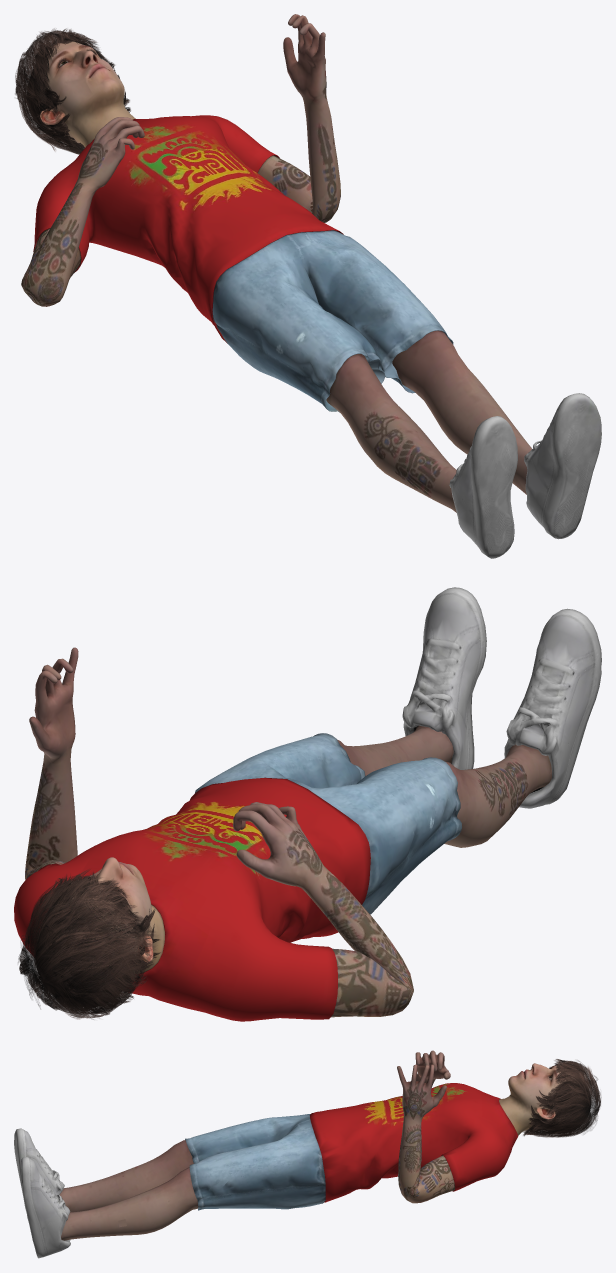
The model's file is rojo-cuerpo-v1.glb.
3 renders of one model, top to bottom at view 1: azimuth 30°, elevation 25°; view 2: azimuth 150°, elevation 25°; view 3: azimuth 270°, elevation 25°, orthographic. The views are drawn at different scales.
Parts seen in each view (by area): view 1: Ch42_Body1.001, Ch42_Shirt.001, Ch42_Shorts.001, Ch42_Sneakers.001, Ch42_Hair1.001; view 2: Ch42_Shirt.001, Ch42_Body1.001, Ch42_Sneakers.001, Ch42_Shorts.001, Ch42_Hair1.001; view 3: Ch42_Body1.001, Ch42_Shirt.001, Ch42_Shorts.001, Ch42_Sneakers.001, Ch42_Hair1.001.
Part boxes in pixels (box(x1,y1,x2,y2)): Ch42_Body1.001: box(21, 14, 531, 512); Ch42_Shirt.001: box(33, 115, 343, 343); Ch42_Shorts.001: box(212, 230, 453, 412); Ch42_Sneakers.001: box(449, 393, 601, 558); Ch42_Hair1.001: box(15, 28, 130, 154); Ch42_Shirt.001: box(14, 777, 370, 1021); Ch42_Body1.001: box(25, 647, 551, 1017); Ch42_Sneakers.001: box(402, 587, 601, 808); Ch42_Shorts.001: box(195, 733, 461, 914); Ch42_Hair1.001: box(18, 869, 160, 1019); Ch42_Body1.001: box(60, 1050, 591, 1240); Ch42_Shirt.001: box(309, 1083, 518, 1202); Ch42_Shorts.001: box(185, 1114, 325, 1210); Ch42_Sneakers.001: box(14, 1128, 70, 1258); Ch42_Hair1.001: box(523, 1059, 601, 1137).
Bounding box in the file's own units: 4.67 × 4.31 × 11.41.
Materials: 2 (2 with a texture image).
